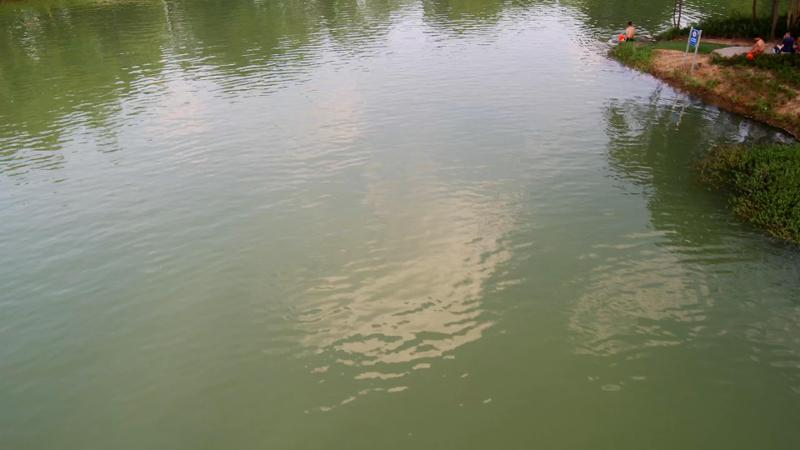passerby: (774, 31, 794, 53)
sus_swimmers: (749, 35, 766, 54), (624, 21, 635, 42)
